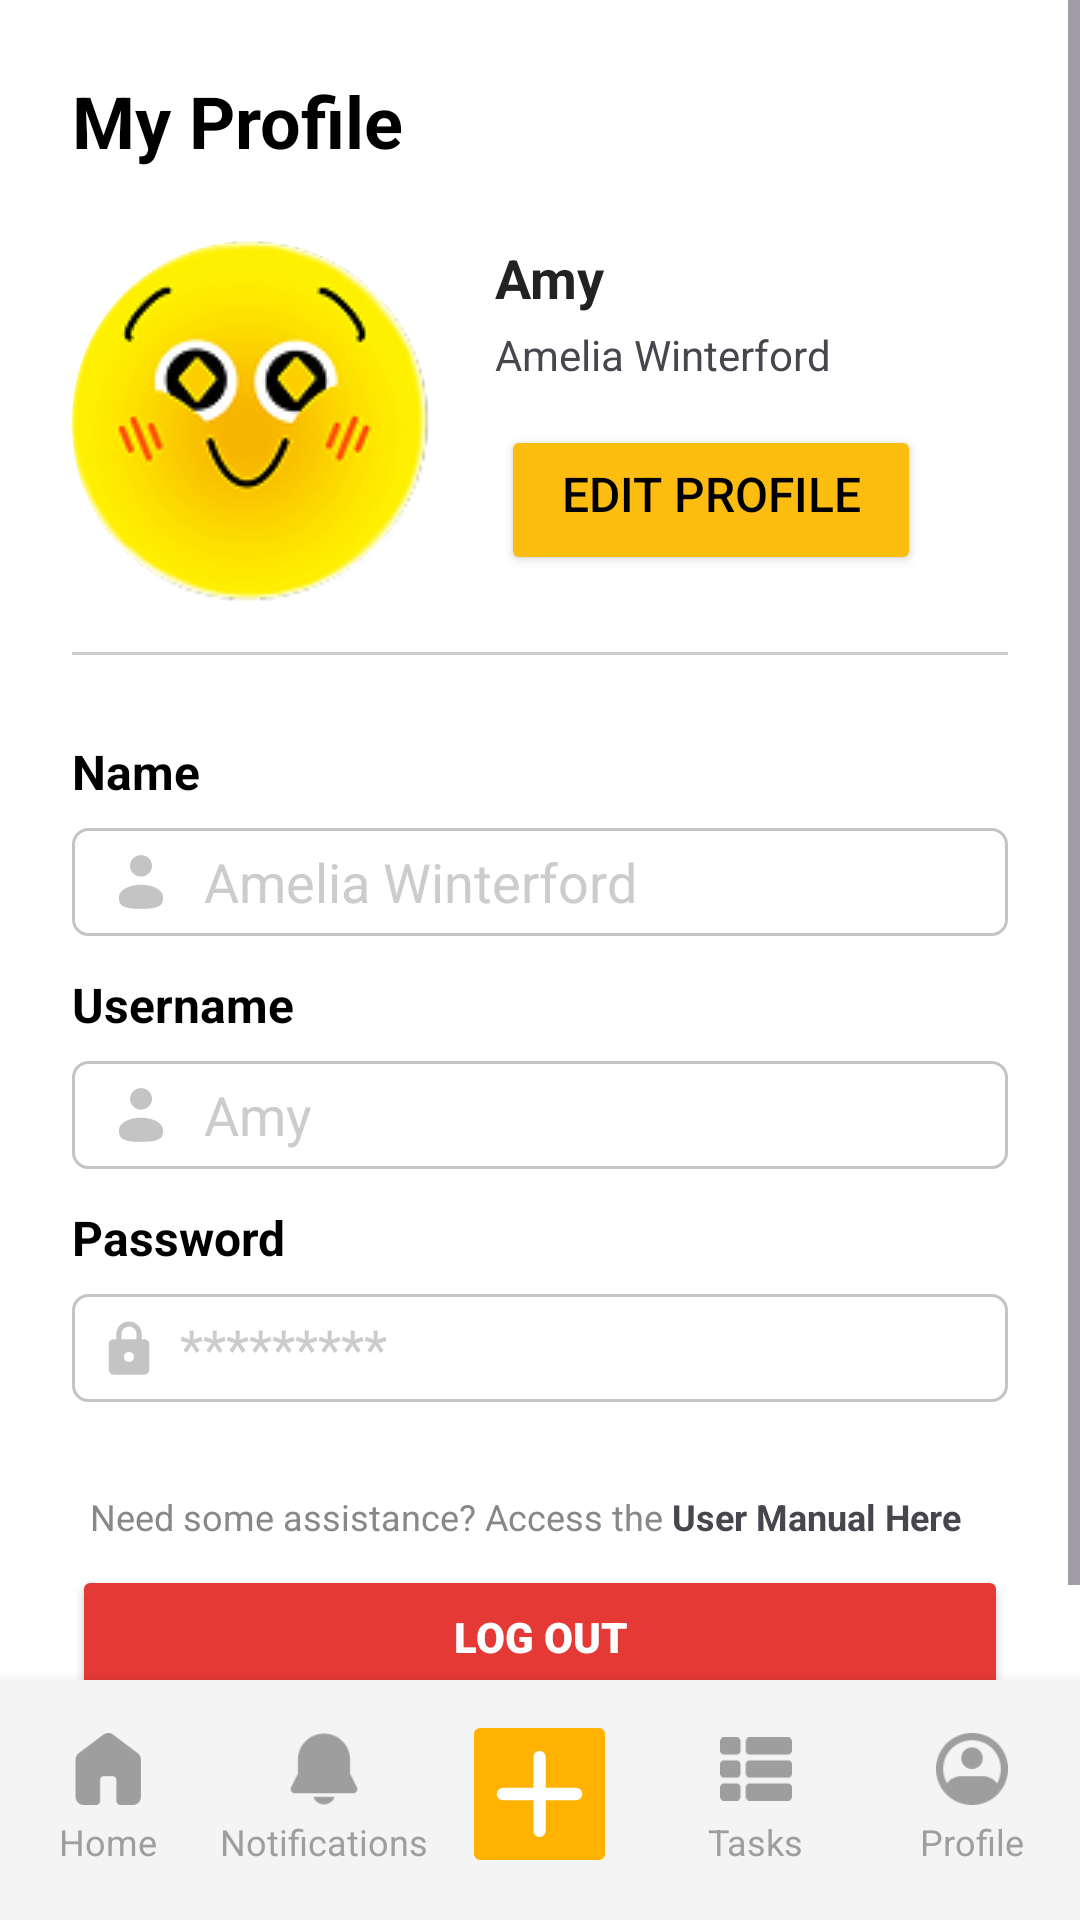

Icons on this 1080 x 1920 Android screen, each with its box as (x1, y1, x2, y2):
add: (474, 1728, 605, 1860)
